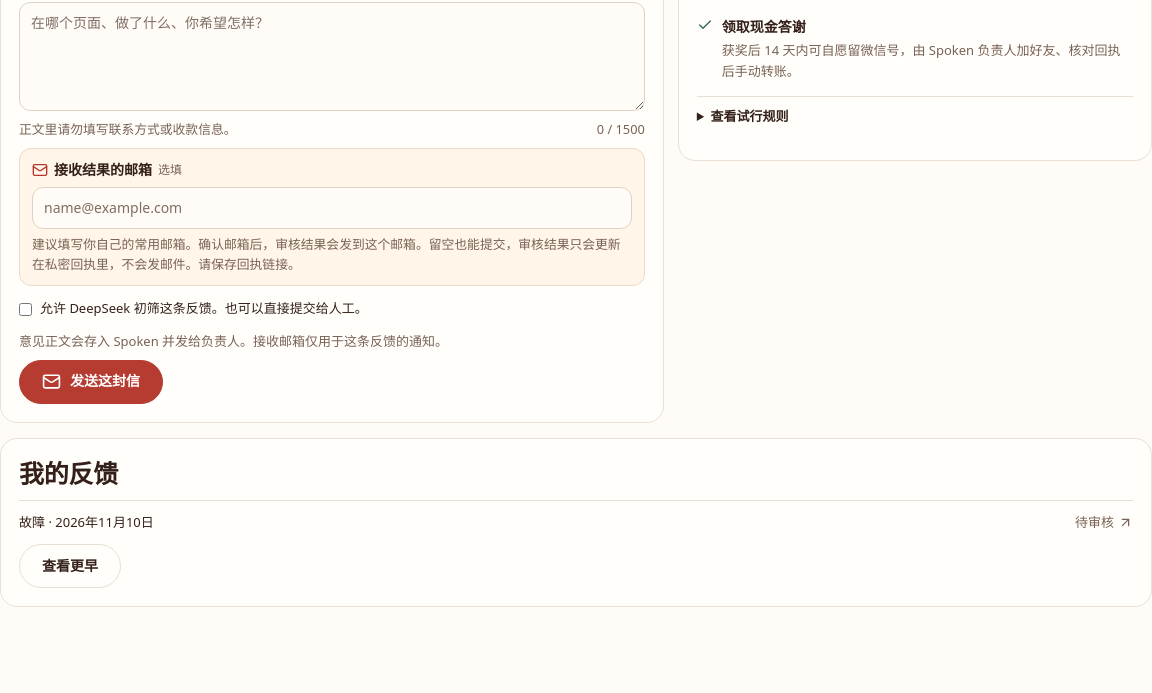
Test case: appends older registered feedback without losing entries already on screen
(page scrolled)
Click the button "查看更早". click: click(70, 566)
box: [19,544,121,588]
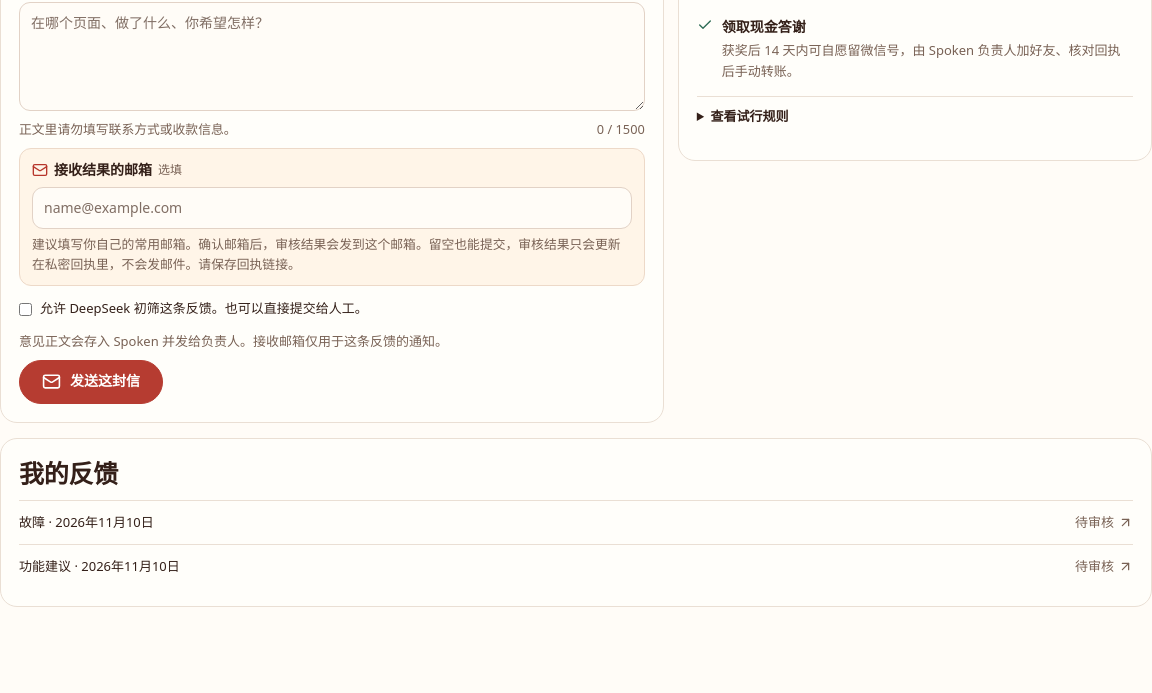
Expected: the button "查看更早" is gone
